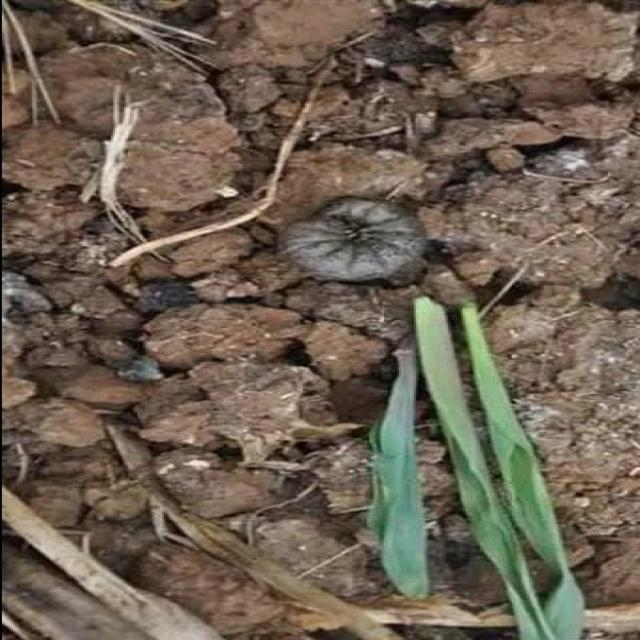black cutworm: (273, 197, 425, 291)
